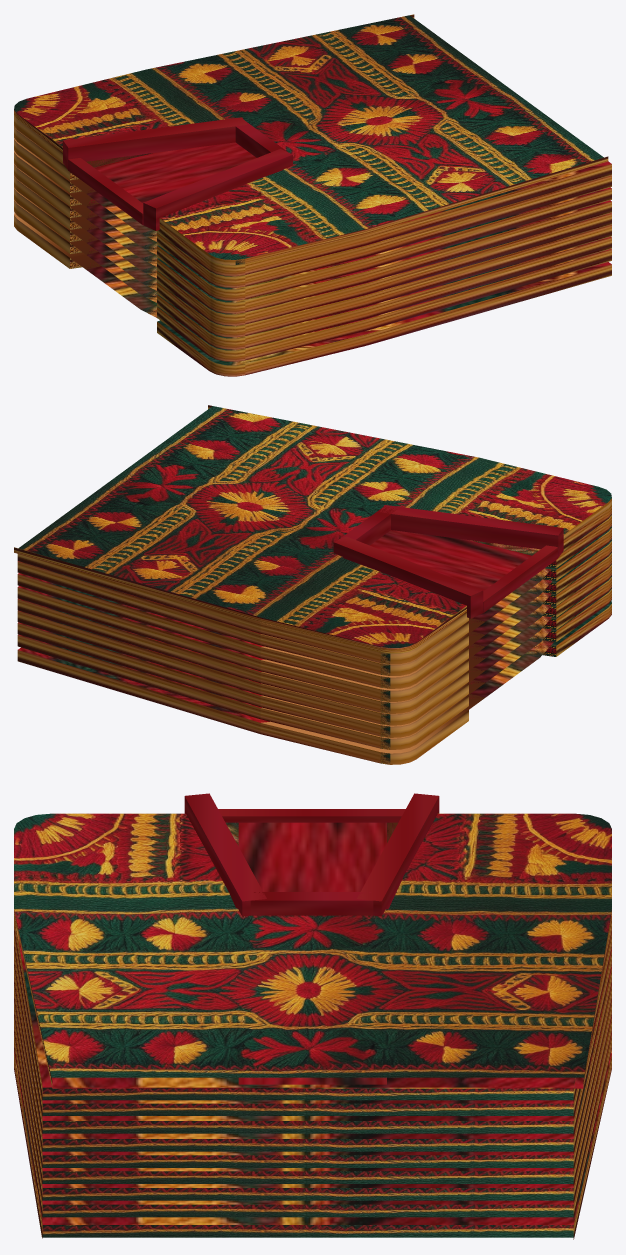
Rendered from Guayabera2_3.obj.
3 renders of one model, top to bottom at view 1: azimuth 30°, elevation 25°; view 2: azimuth 150°, elevation 25°; view 3: azimuth 270°, elevation 25°, orthographic. The views are drawn at different scales.
Parts seen in each view (by area): view 1: Guayabera2; view 2: Guayabera2; view 3: Guayabera2.
Boxes of the visible parts, <box> form: Guayabera2: <box>14,14,611,376</box>; Guayabera2: <box>14,405,611,764</box>; Guayabera2: <box>14,793,611,1239</box>.
Bounding box in the file's own units: 0.3772 × 0.1129 × 0.35.
Materials: 1 (1 with a texture image).
